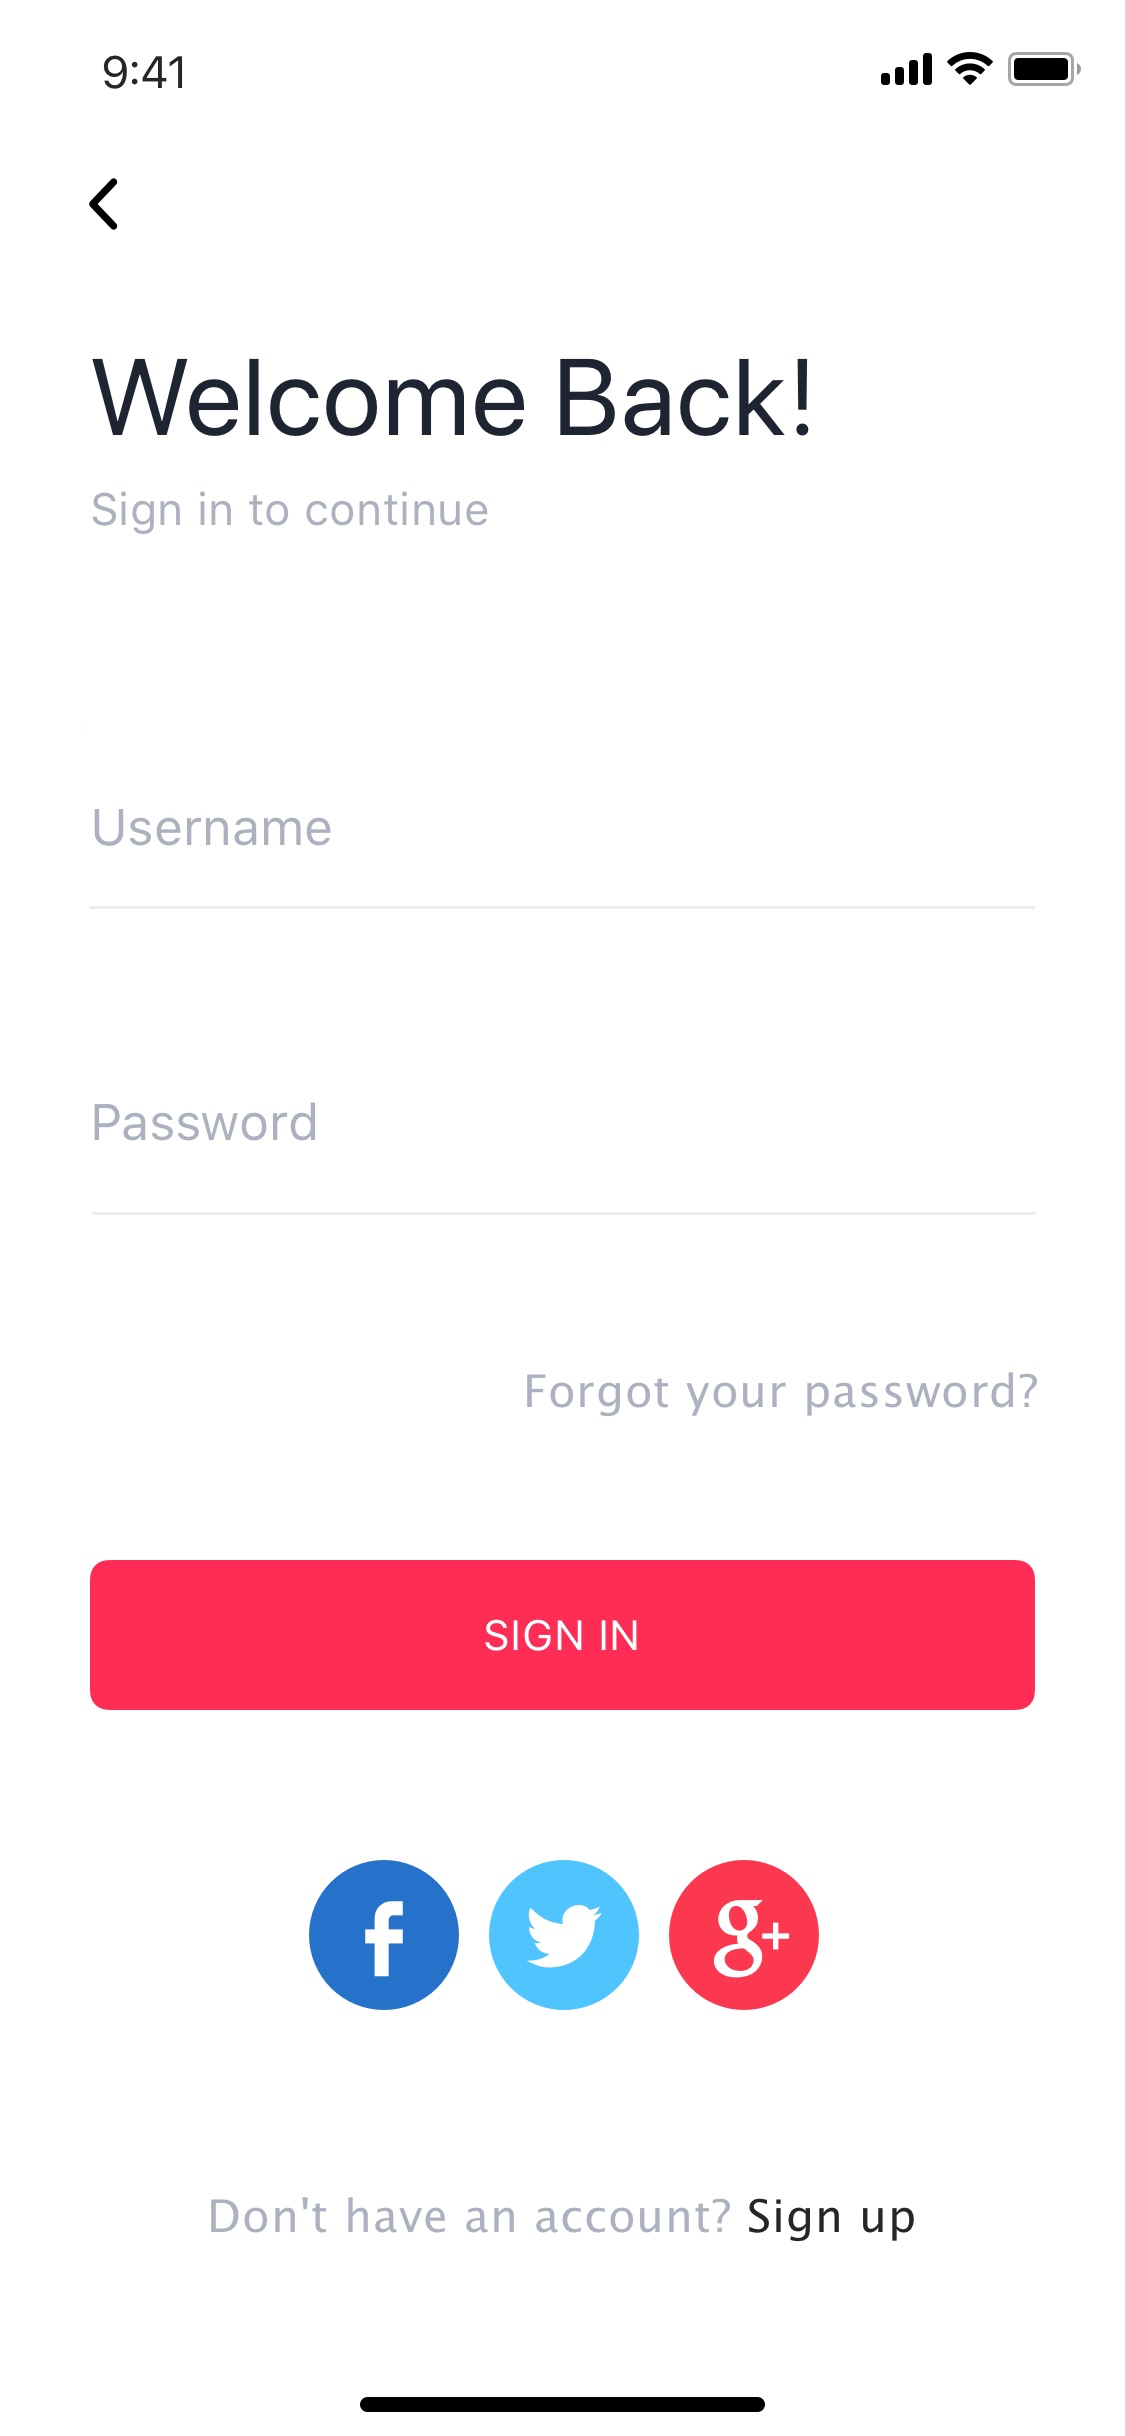EditText: (90, 1101, 1038, 1216), (90, 808, 1035, 910)
Icon: (309, 1860, 461, 2010), (489, 1860, 642, 2010), (668, 1860, 820, 2010), (89, 179, 120, 231)
Text: (92, 359, 811, 438), (211, 2197, 915, 2243), (527, 1370, 1038, 1418), (92, 489, 489, 538), (95, 1100, 317, 1142), (93, 809, 333, 847)
TextButton: (90, 1558, 1036, 1710)
UpperTaskBar: (104, 51, 1081, 92)
